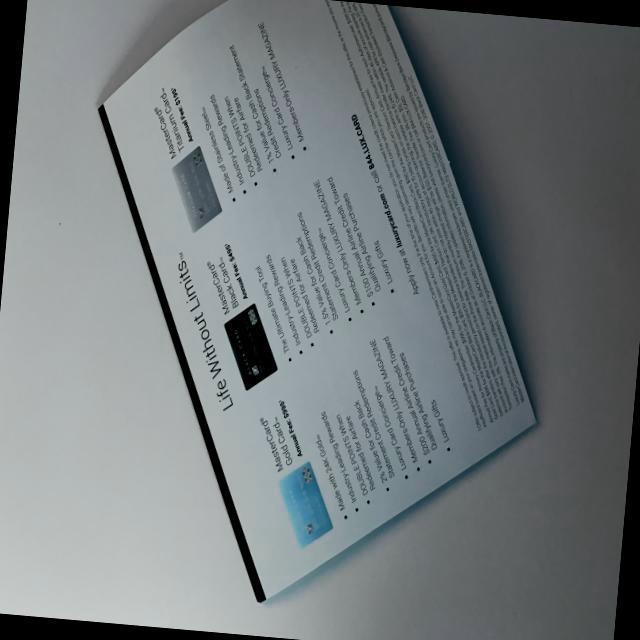paper: (49, 0, 600, 635)
